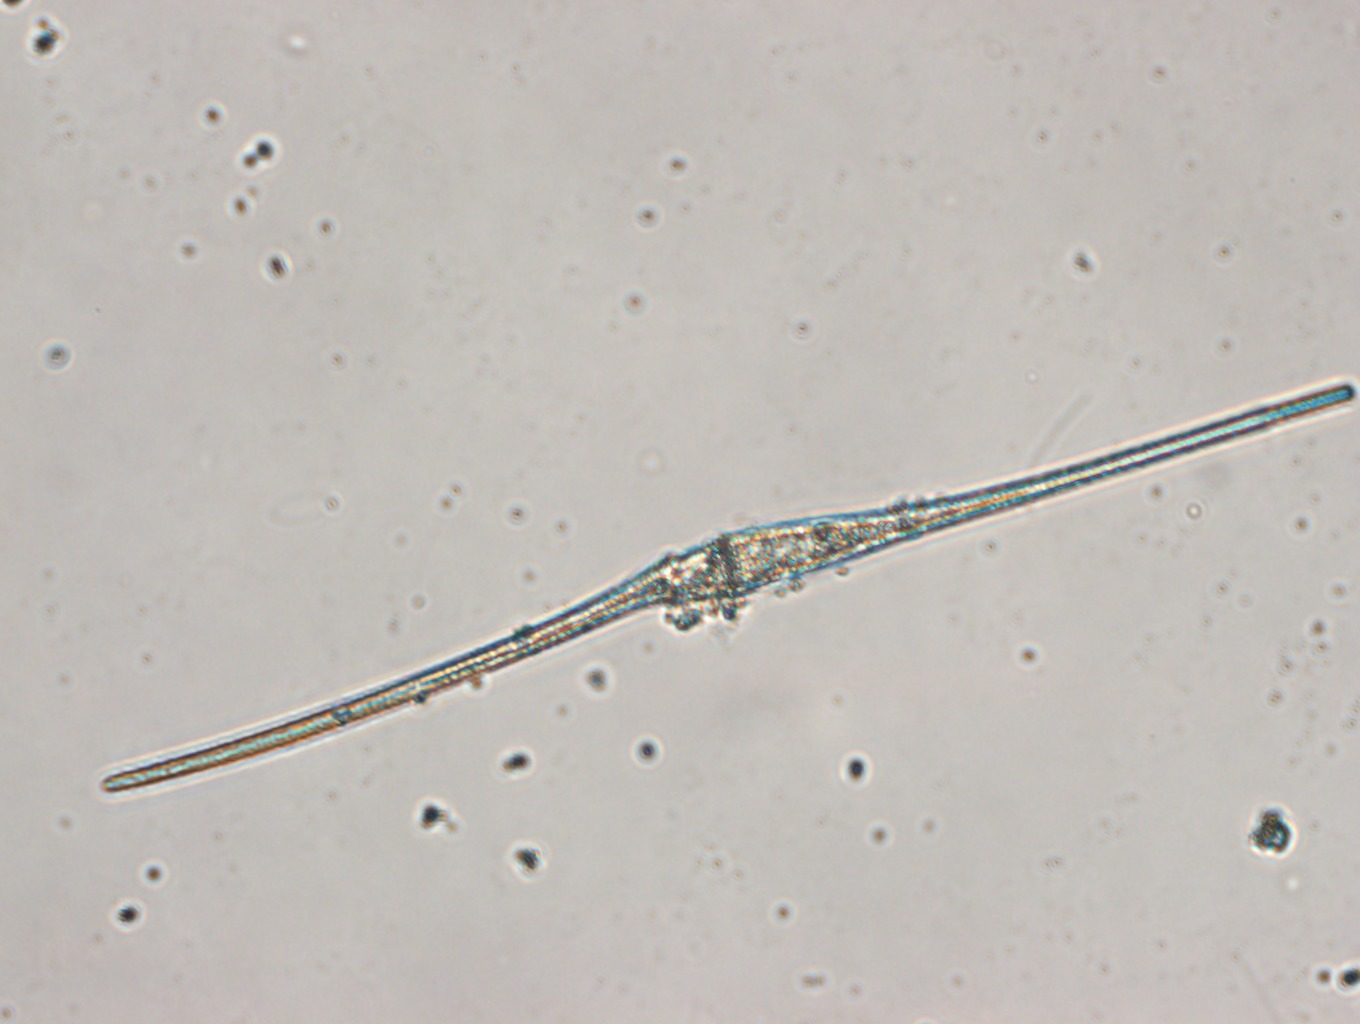ceratium fusus: (98, 381, 1360, 801)
